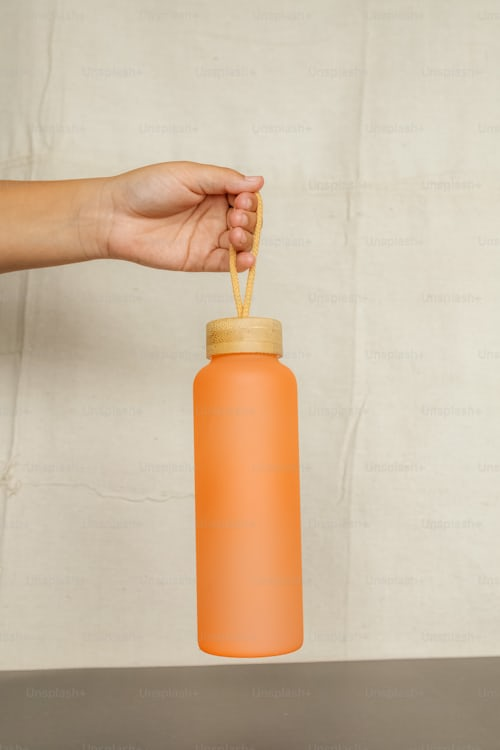Bottle: (176, 307, 330, 676)
